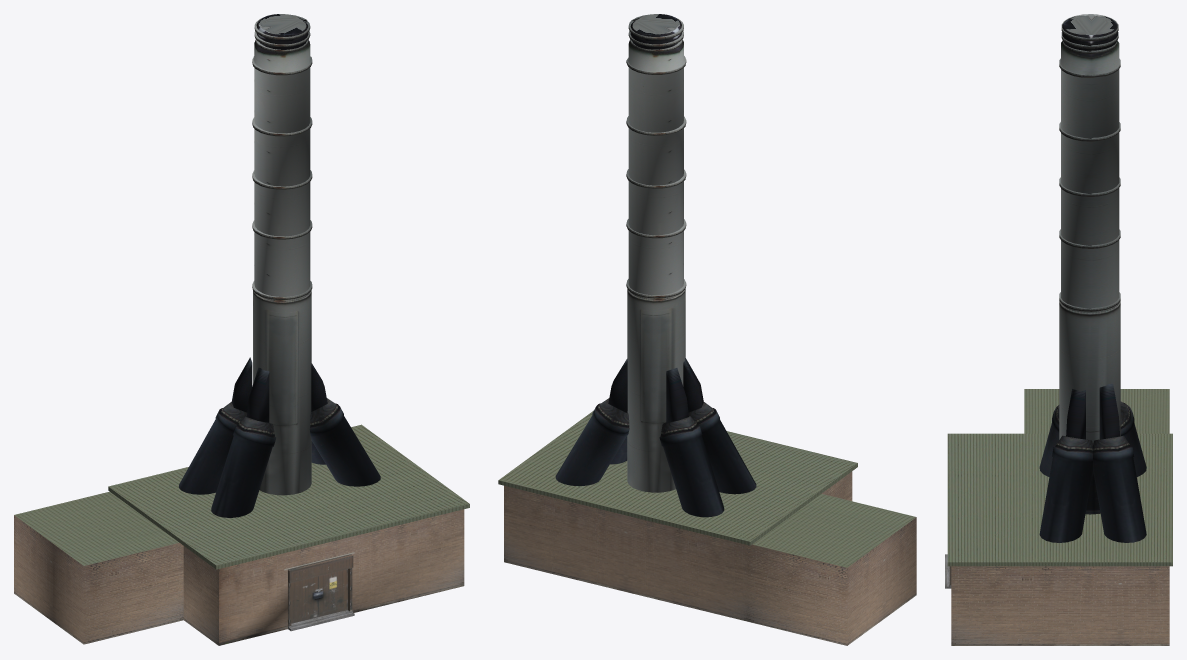
Rendered from industrial11.obj.
3 views of the same model, side by side, from view 1: azimuth 30°, elevation 25°; view 2: azimuth 150°, elevation 25°; view 3: azimuth 270°, elevation 25° (orthographic). The views are drawn at different scales.
Visible parts, largest first — view 1: industrial11; view 2: industrial11; view 3: industrial11.
Part boxes in pixels (x1=…): industrial11: x1=14, y1=14, x2=469, y2=645; industrial11: x1=498, y1=14, x2=916, y2=645; industrial11: x1=945, y1=14, x2=1172, y2=645.
Bounding box in the file's own units: 733 × 1084 × 398.
Materials: 1 (1 with a texture image).
